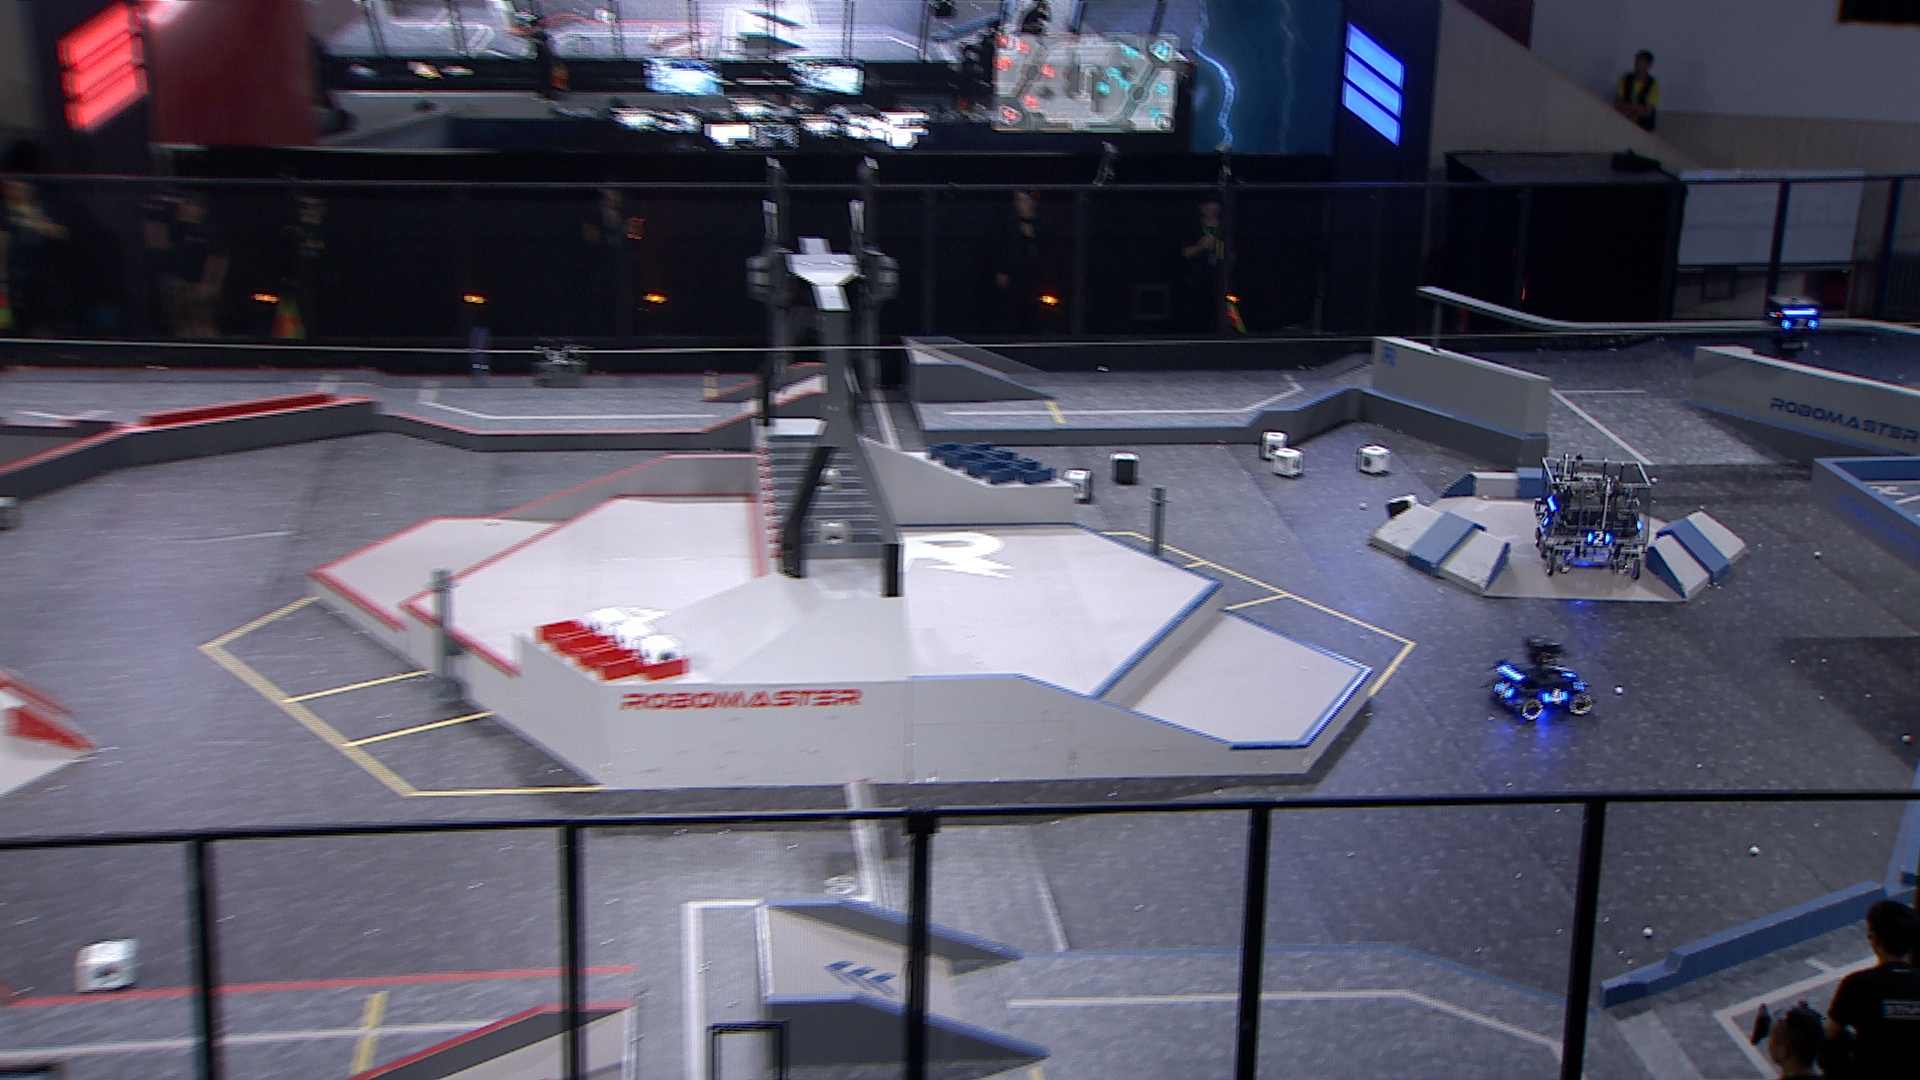armor: (1783, 318, 1815, 334), (1542, 688, 1571, 704), (1495, 683, 1519, 700), (1582, 531, 1613, 545), (1557, 662, 1575, 680), (1536, 508, 1548, 533)
car: (1534, 451, 1654, 580), (1487, 632, 1594, 719)
watcher: (1762, 290, 1828, 365)
